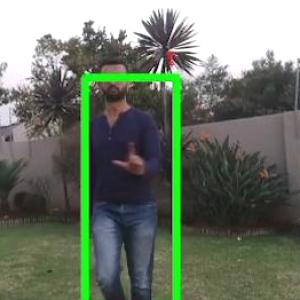land_hand: (111, 132, 154, 181)
